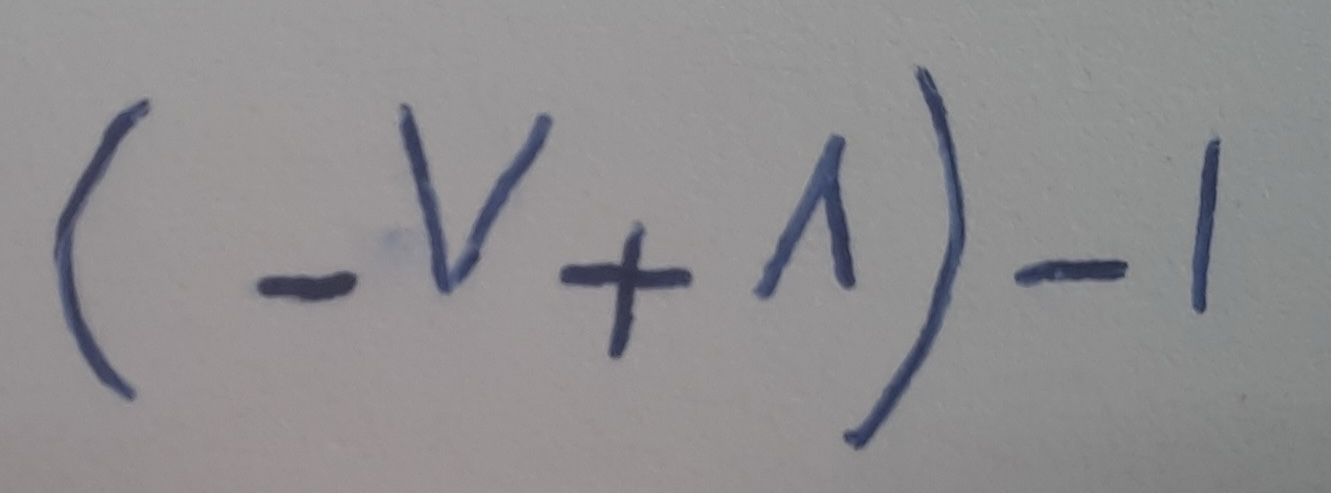character: (836, 59, 971, 457), (48, 90, 156, 403), (394, 99, 559, 294), (557, 212, 698, 364), (750, 126, 862, 303), (1183, 131, 1226, 317), (1011, 252, 1132, 292), (252, 263, 363, 304)
